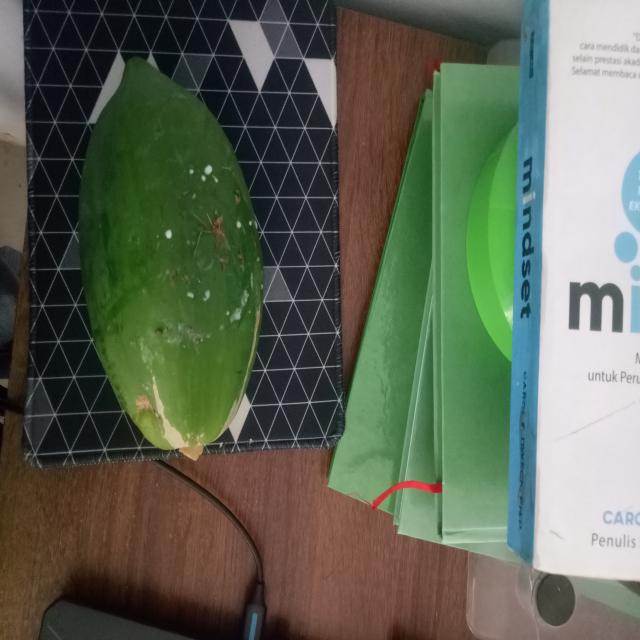Pepaya unrippen: (90, 50, 264, 458)
